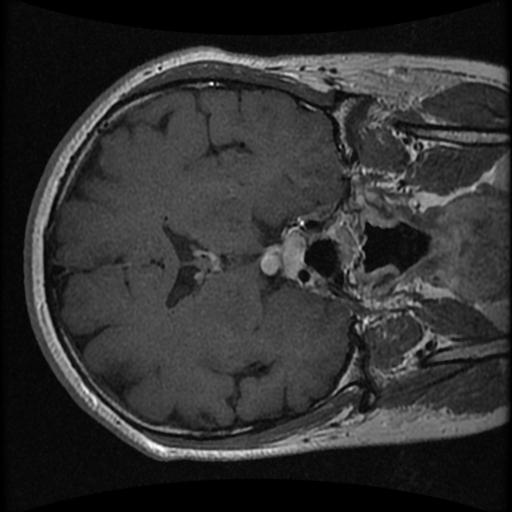pituitary tumour: (261, 231, 306, 279)
